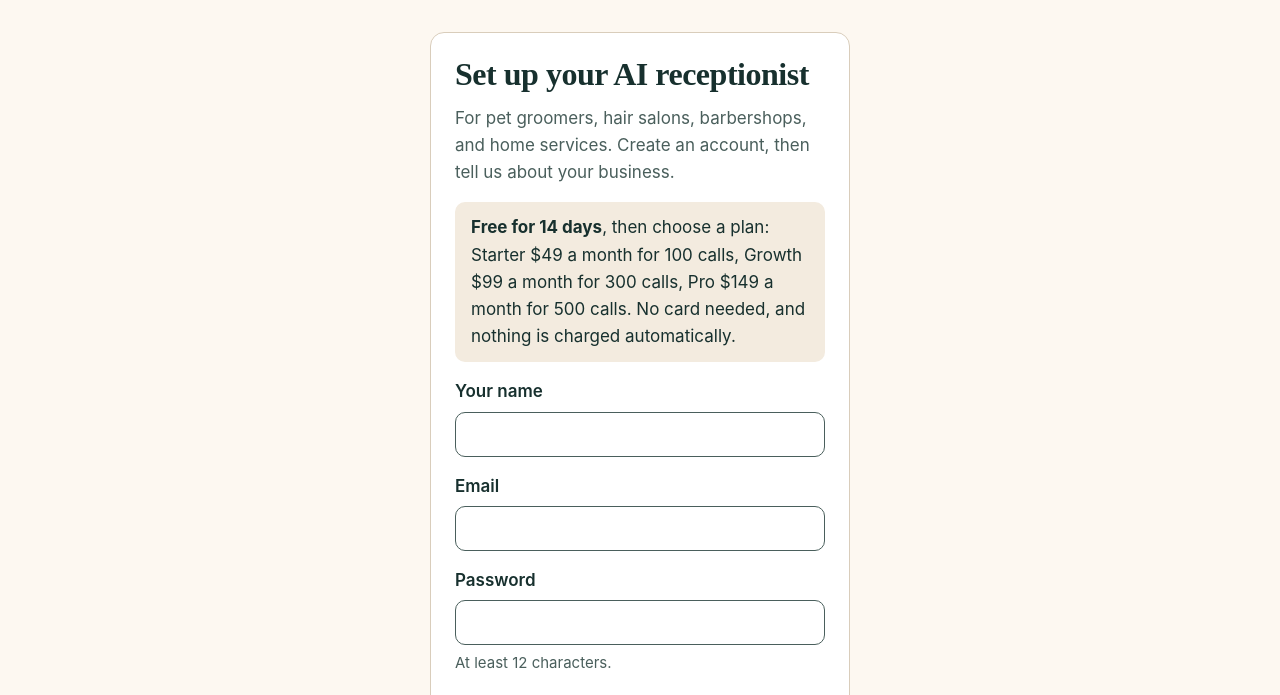
Test: SubscriberApp › creates an account and opens the first profile step
Type "Sam Rivera" into the field labelled "Your name" at (640, 434), box [455,412,825,457]
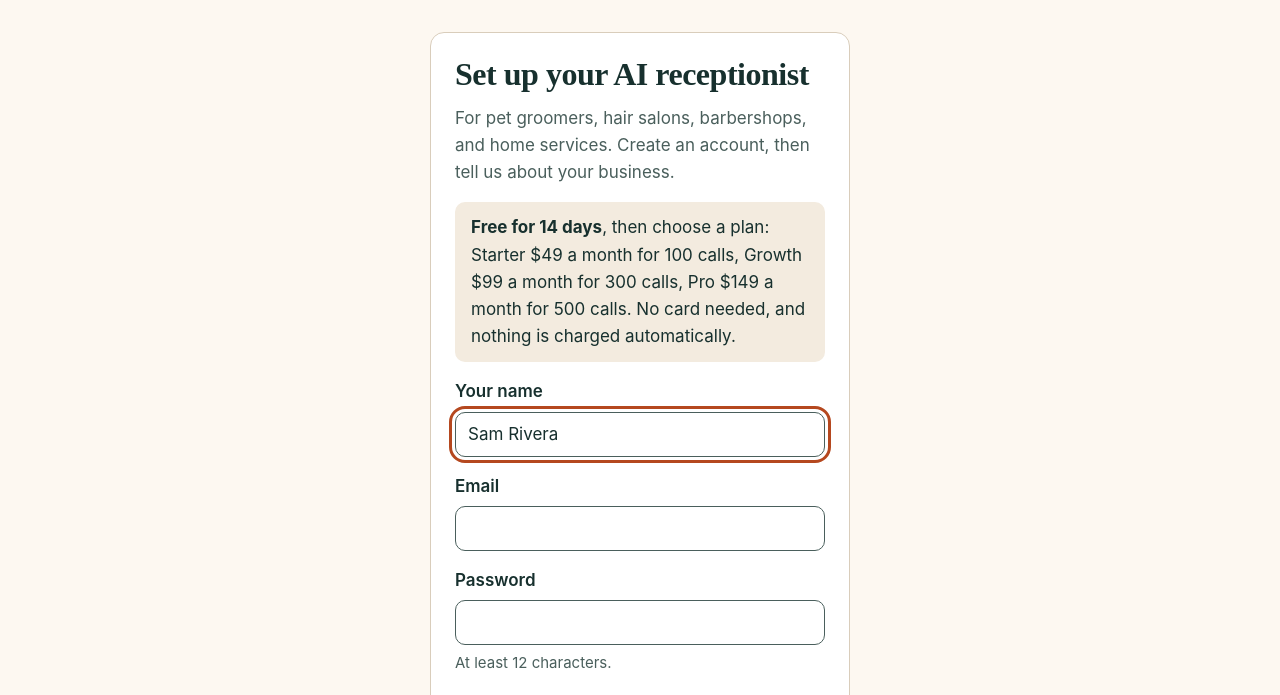
Type "sam@example.com" into the field labelled "Email" at (640, 528), box [455,506,825,551]
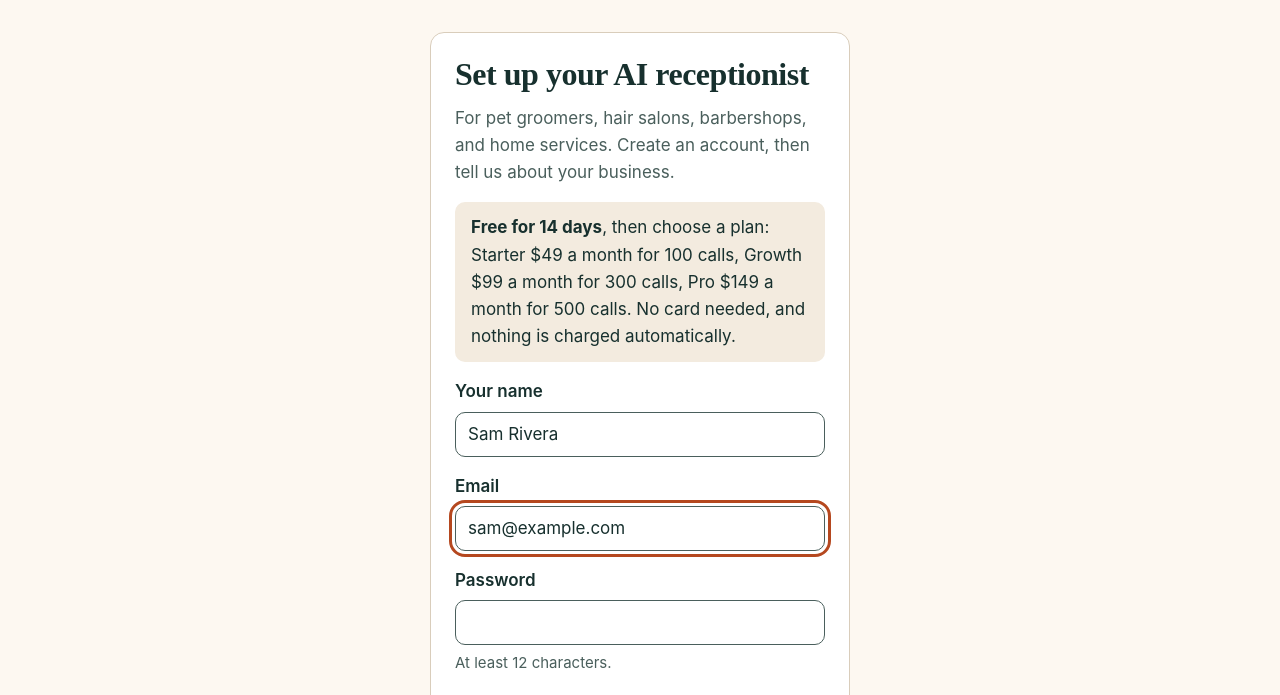
Type "correct horse battery" into the password field labelled "Password" at (640, 623), box [455,600,825,646]
(page scrolled)
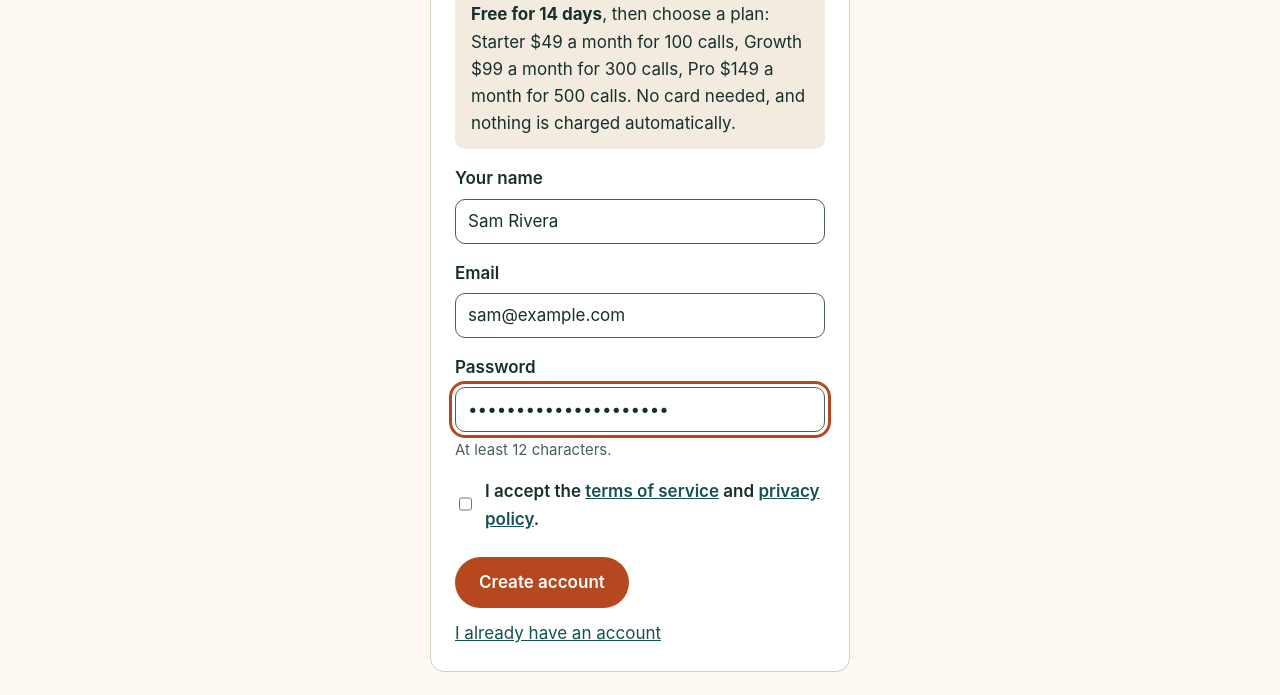
Click the checkbox labelled "I accept the terms of service and privacy policy ." at (466, 504), box [459,482,472,526]
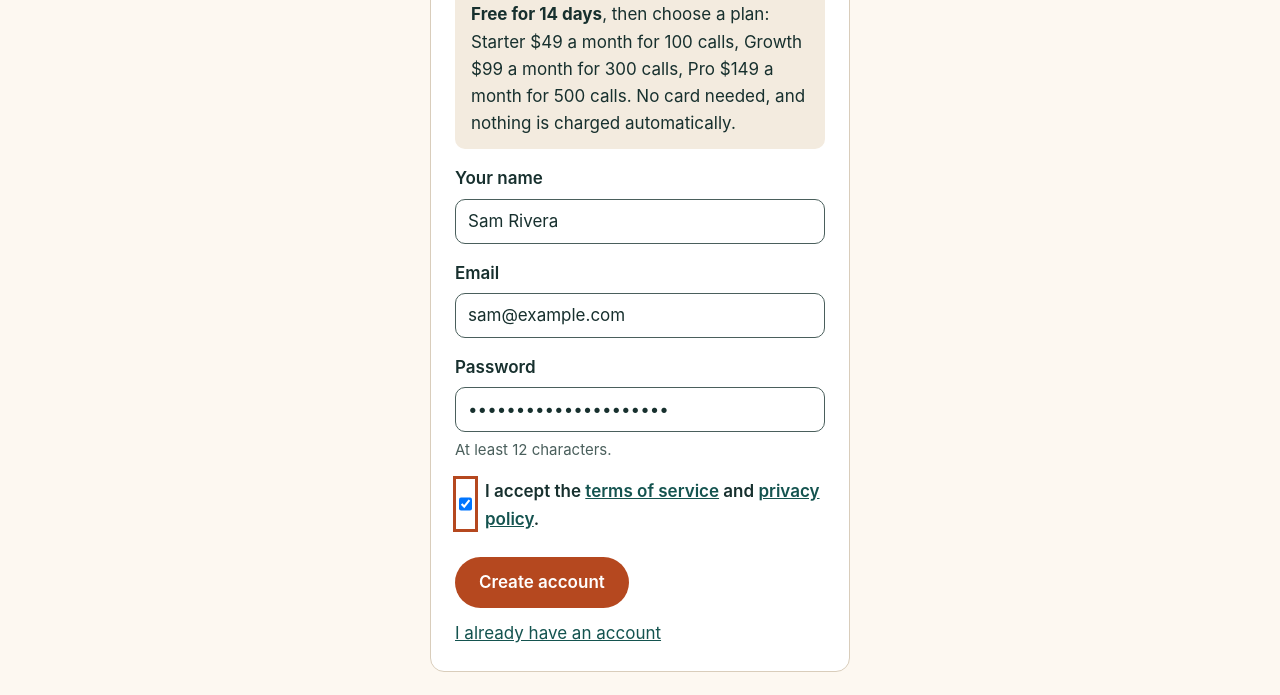
Click the button "Create account" at (542, 582), box [455,557,629,608]
(page scrolled)
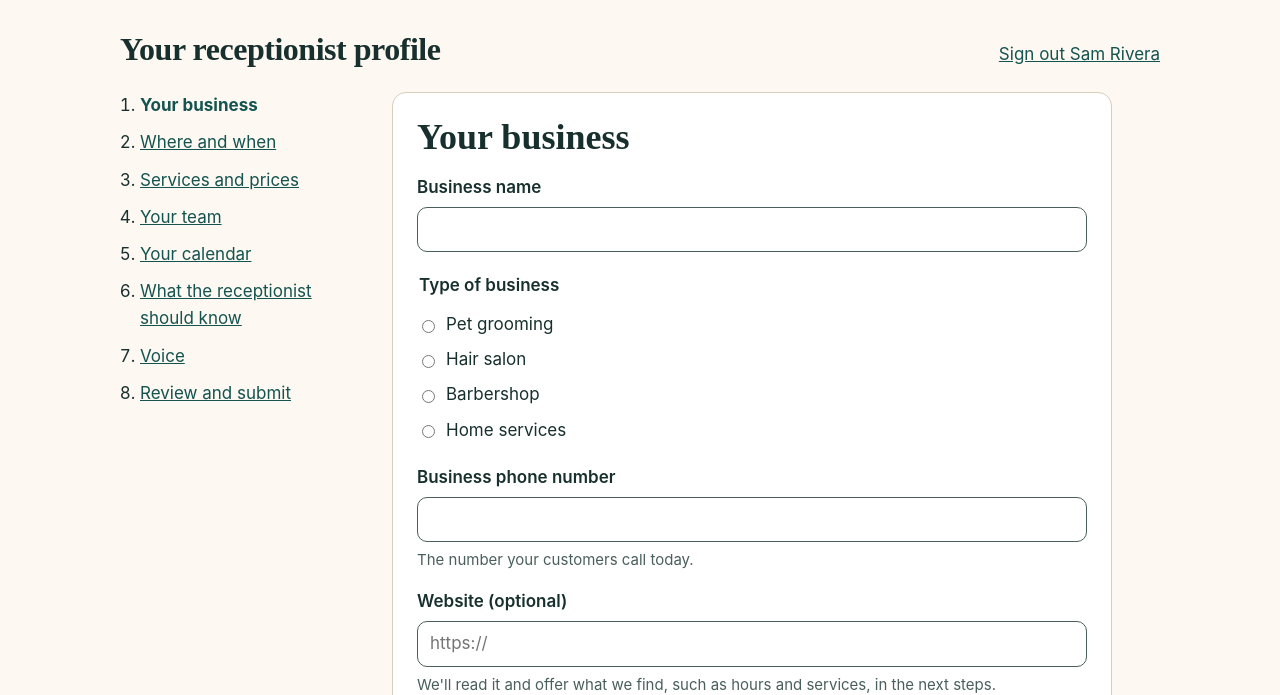
Expected: the heading "Your business" is shown, [417,117,629,157]
